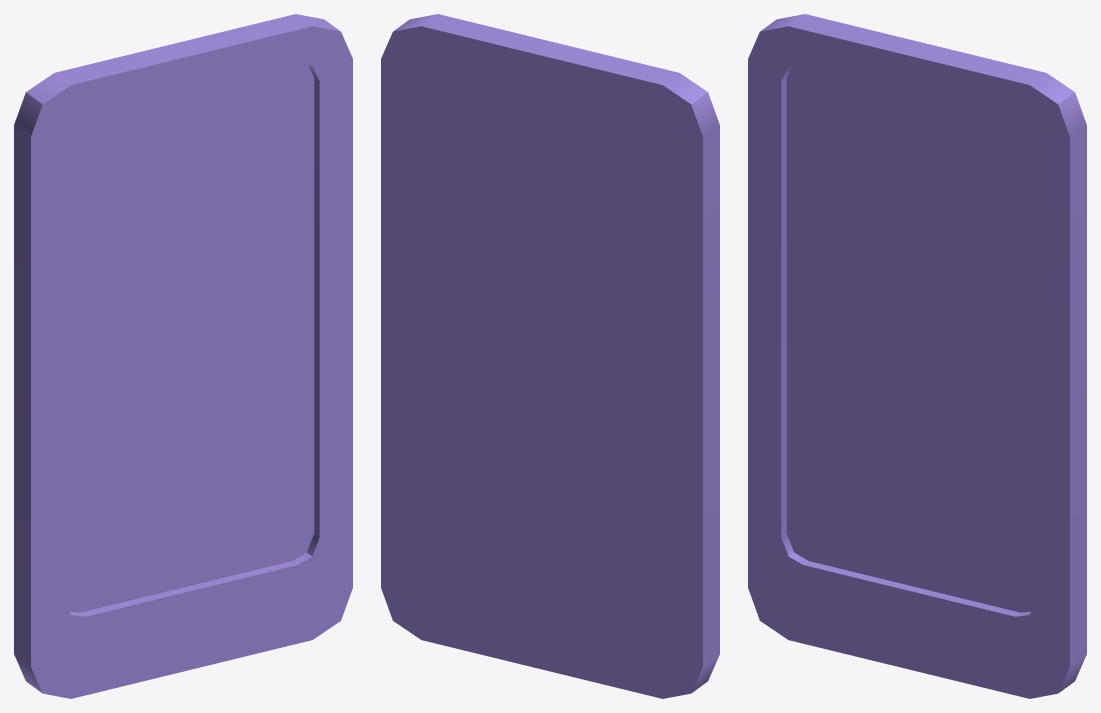
File: PROPS_OTHER_PHONE_MODEL.fbx
The picture shows the model from 3 angles, left to right: view 1: azimuth 30°, elevation 25°; view 2: azimuth 150°, elevation 25°; view 3: azimuth 330°, elevation 25°; orthographic projection.
Visible parts, largest first — view 1: PROPS_OTHER_PHONE_MODEL; view 2: PROPS_OTHER_PHONE_MODEL; view 3: PROPS_OTHER_PHONE_MODEL.
Boxes of the visible parts, x1,y1,x2,y2 form: PROPS_OTHER_PHONE_MODEL: (14, 14, 352, 698); PROPS_OTHER_PHONE_MODEL: (381, 14, 719, 698); PROPS_OTHER_PHONE_MODEL: (748, 14, 1086, 698).
Bounding box in the file's own units: 9.03 × 16.46 × 0.815.
